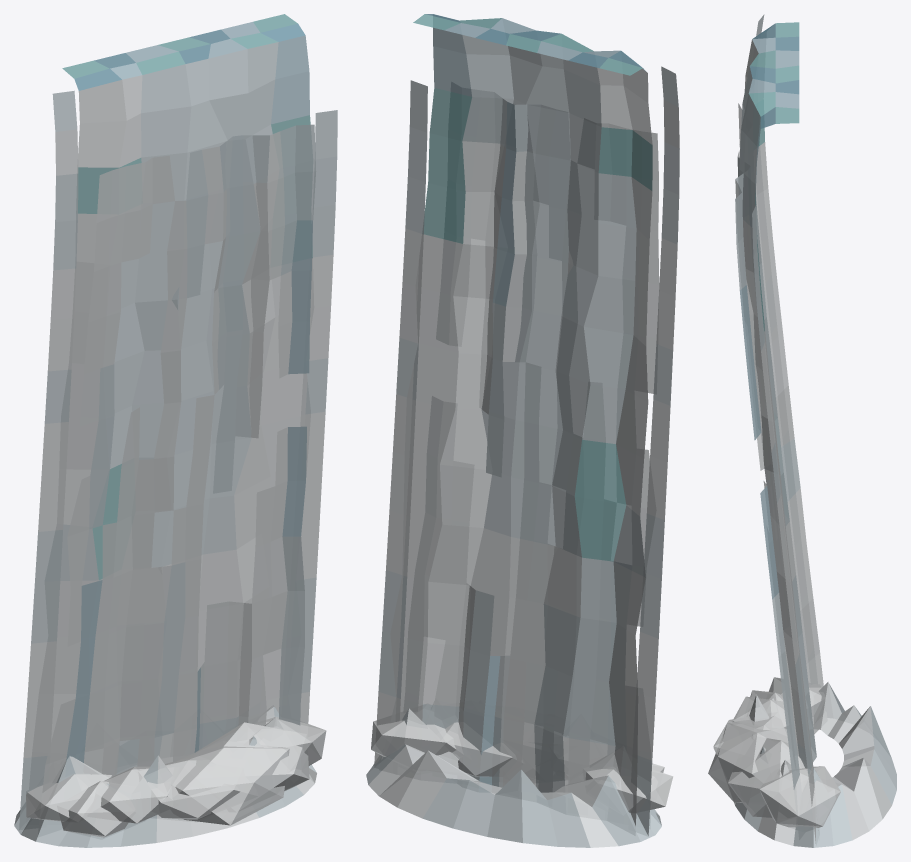
The model's file is wf_fall_mid.glb.
3 views of the same model, side by side, from view 1: azimuth 30°, elevation 25°; view 2: azimuth 150°, elevation 25°; view 3: azimuth 270°, elevation 25° (orthographic). The views are drawn at different scales.
Visible parts, largest first — view 1: wf_fall_mid; view 2: wf_fall_mid; view 3: wf_fall_mid.
Boxes of the visible parts, bbox=[...] form: wf_fall_mid: bbox=[14, 14, 337, 847]; wf_fall_mid: bbox=[366, 14, 679, 847]; wf_fall_mid: bbox=[708, 14, 896, 847].
Size of the model in its own units: 6.74 by 16.65 by 3.96.
